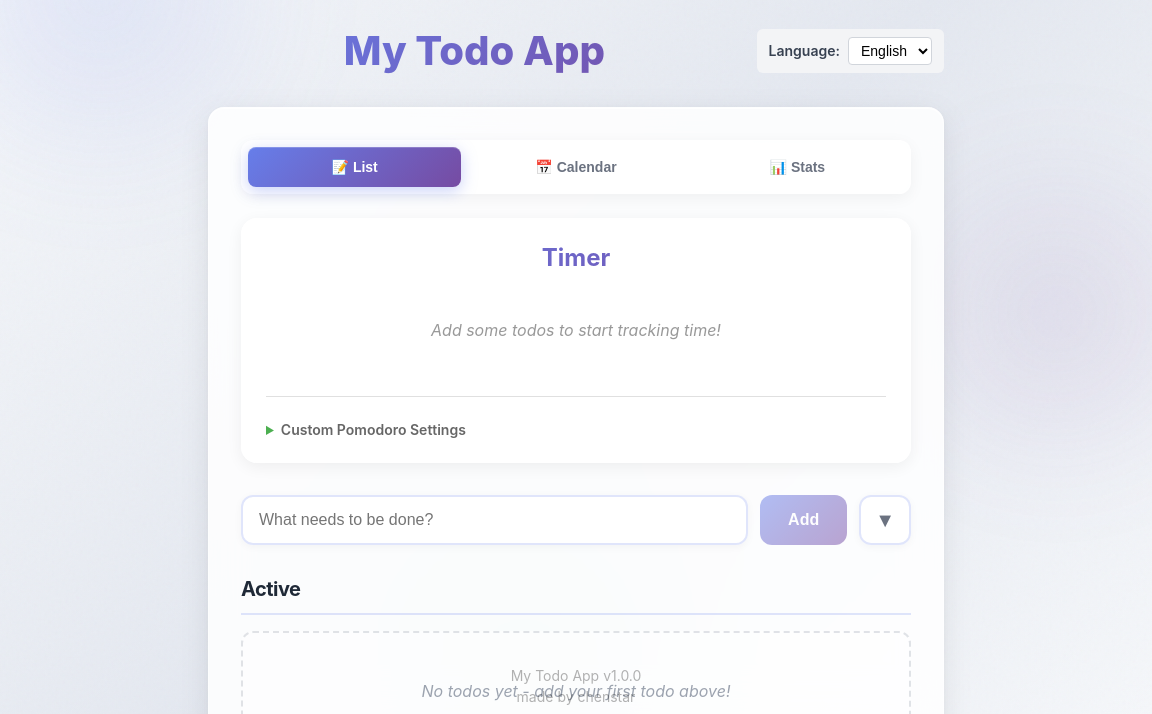
Test: Todo App Integration - Create Todo › should create a todo when user submits valid input
The image size is (1152, 714).
Step 1. Type "Buy groceries" into the field → (495, 520), box [241,495,748,545]
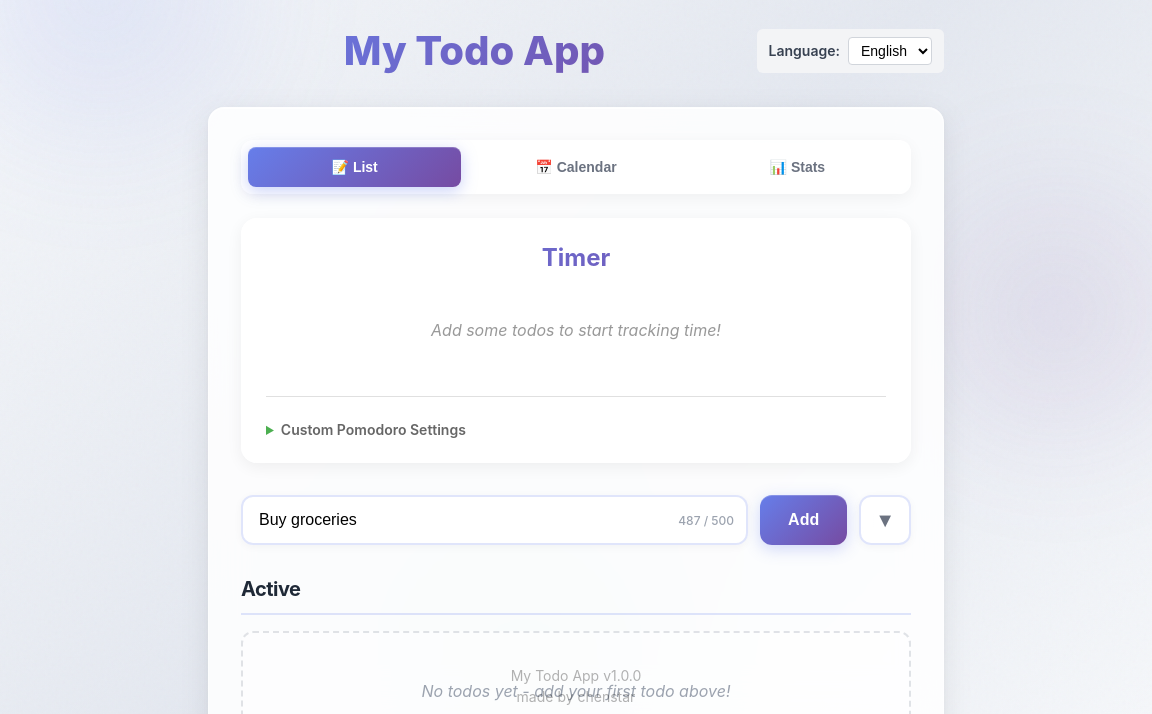
// Submit the form
Step 2. Submit the form, box [241,495,911,545]
(page scrolled)
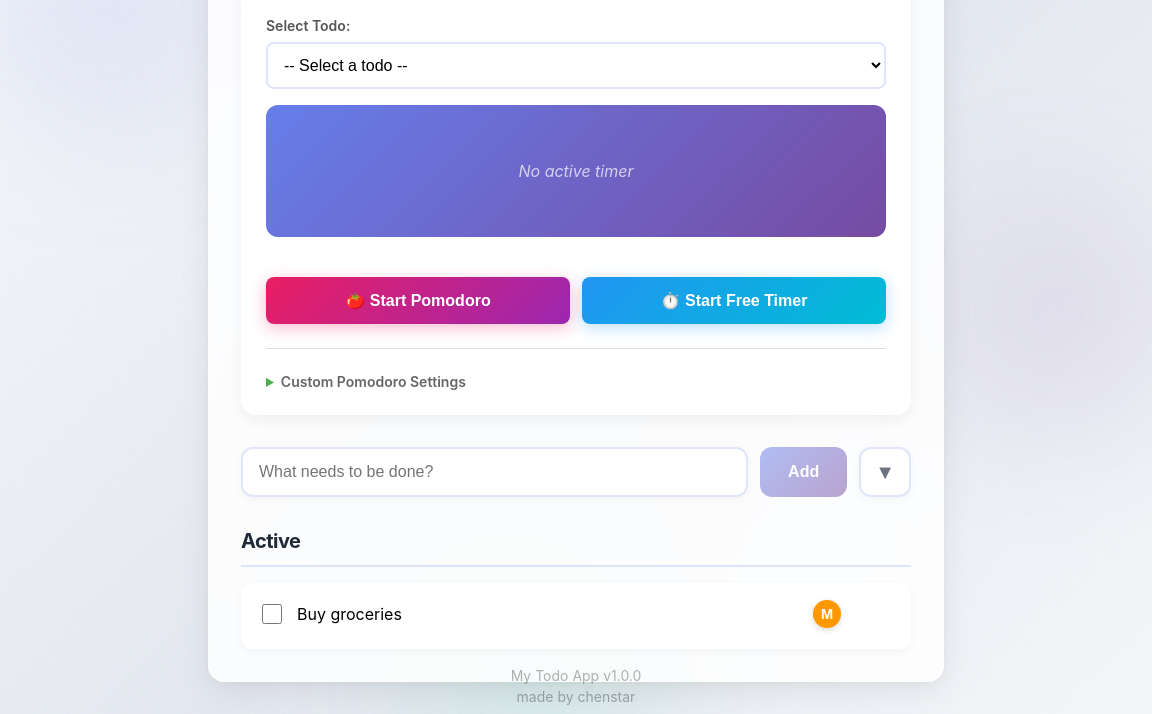
Now the list item is shown, box [241,583,911,649]
Now the field is empty, box [241,447,748,497]
